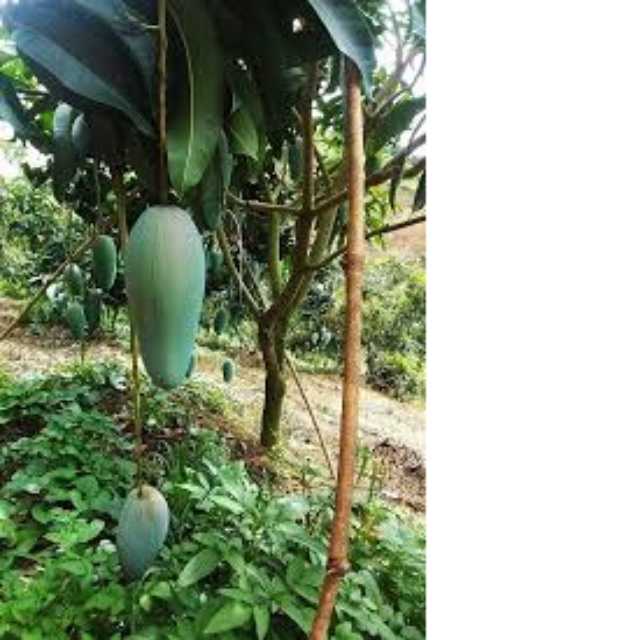thanh_long: (120, 195, 210, 401), (107, 480, 181, 588)
